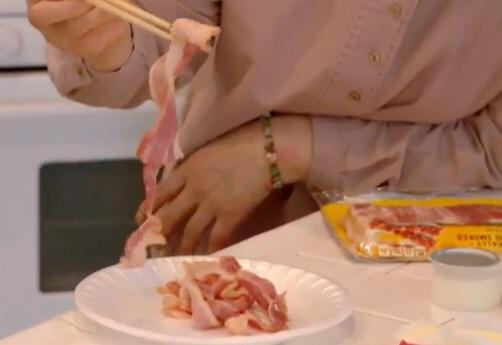bacon: (134, 29, 186, 250), (164, 246, 270, 330)
